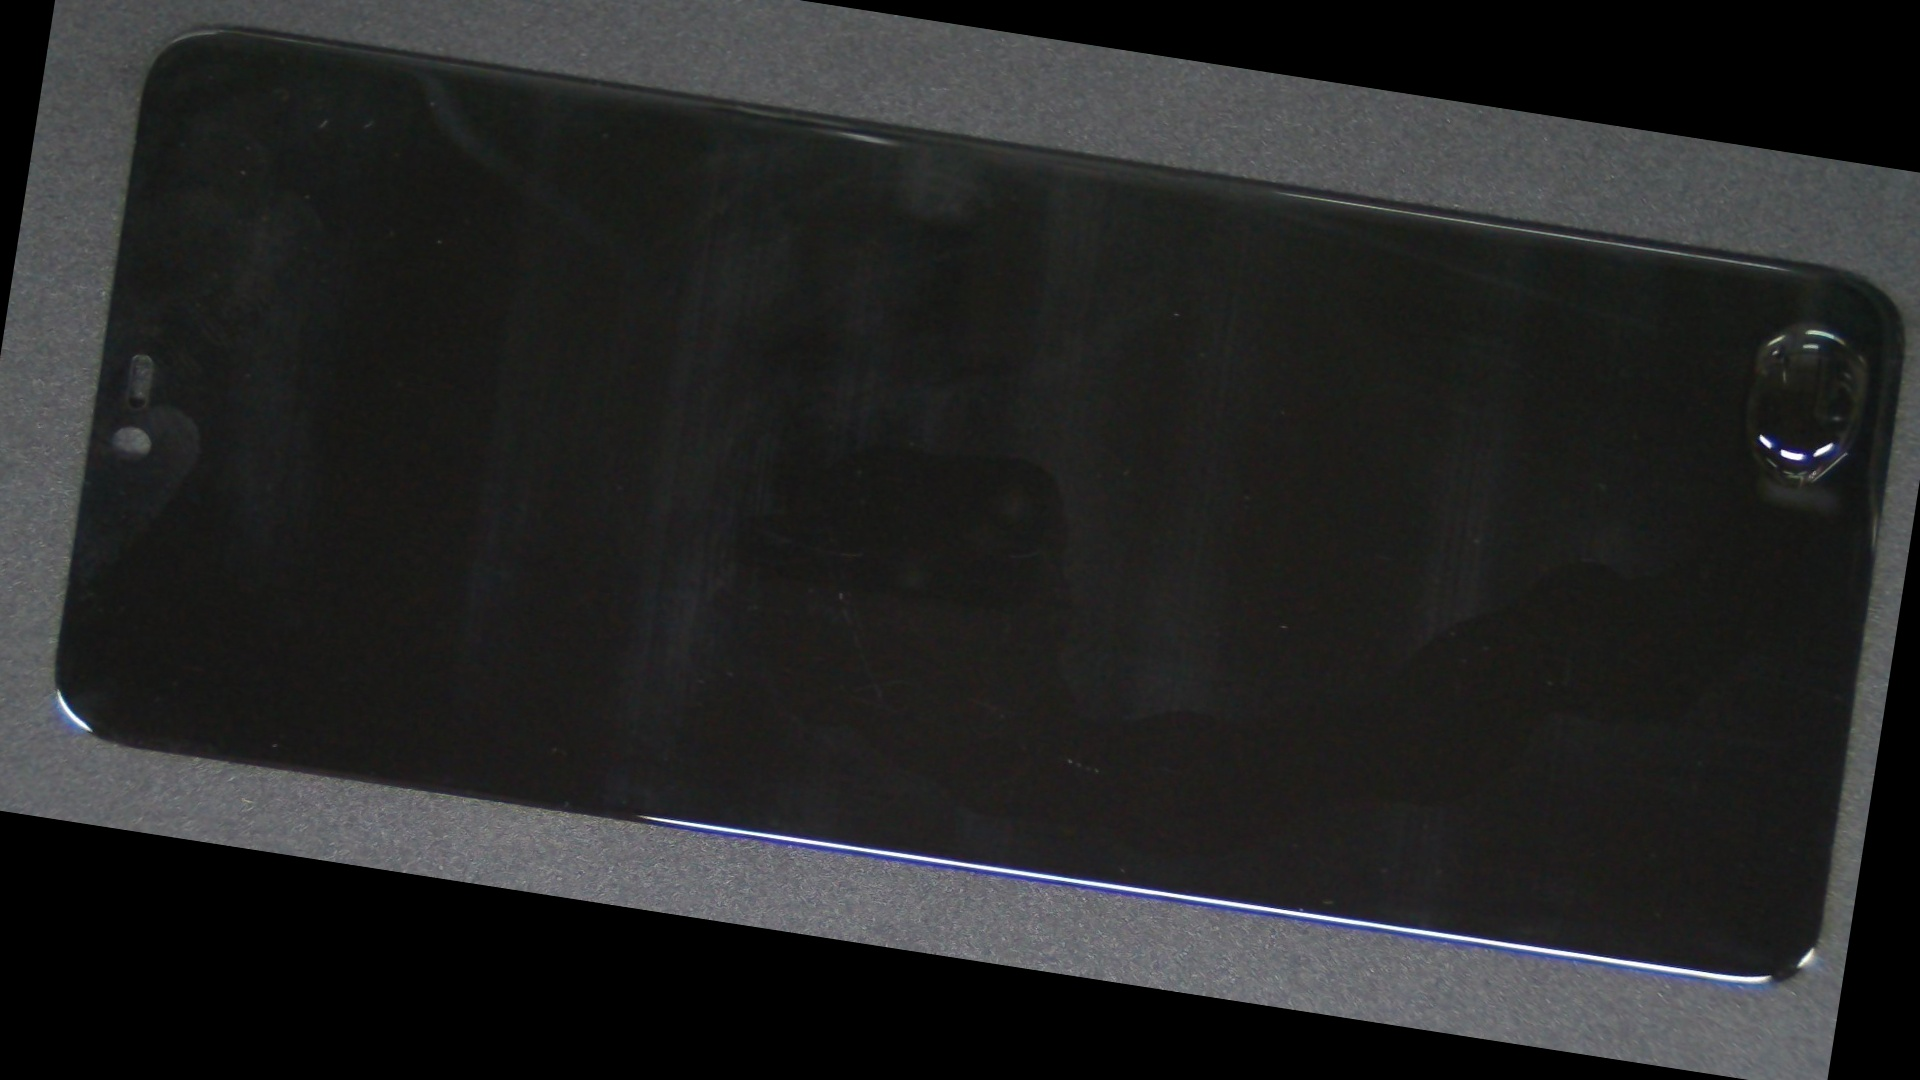oil: (920, 105, 1920, 425)
